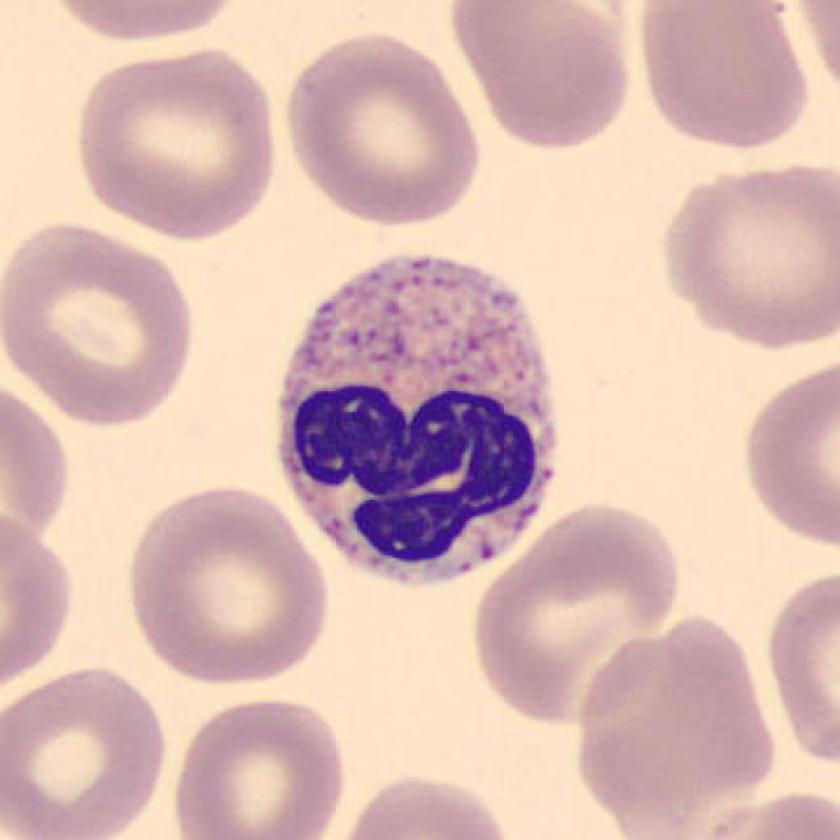neutrophil: (282, 261, 557, 580)
